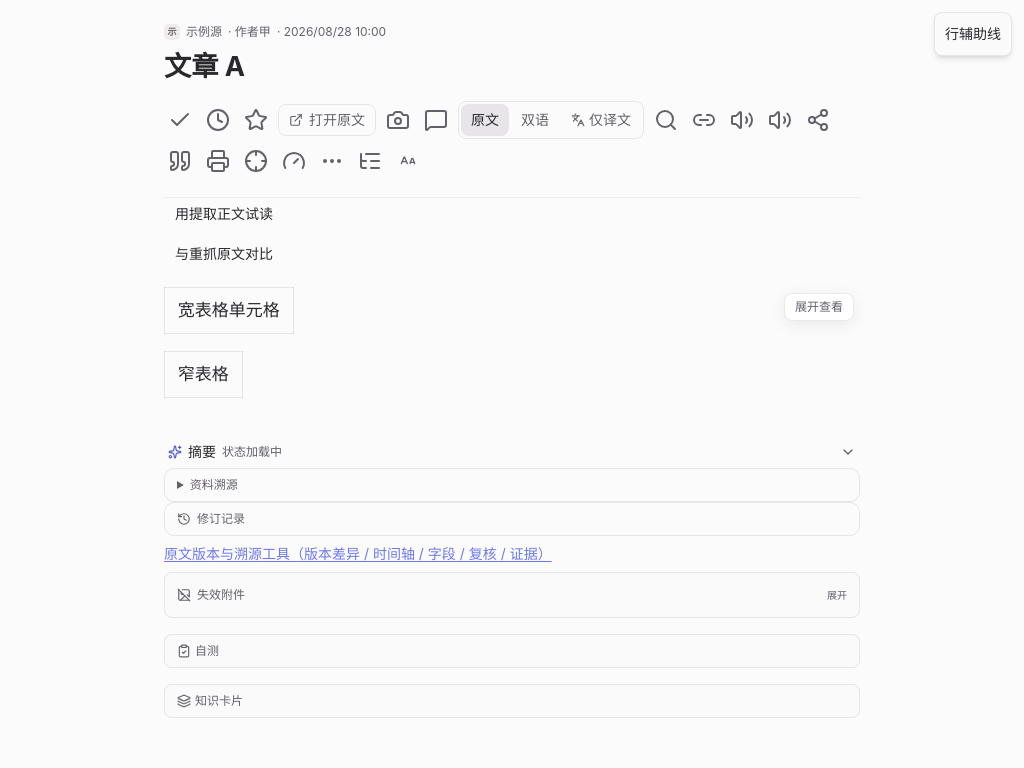
F16 — 表格展开 › 过宽表格（data-table-wide 标记路径）出现展开按钮；面板完整查看；Esc 关闭还原滚动
The width and height of the screenshot is (1024, 768).
(page scrolled)
Expected: the text "宽表格单元格" is shown, x1=164 y1=288 x2=293 y2=334
Click the button with aria-label "展开表格". click: [819, 307]
box: x1=784 y1=293 x2=854 y2=321
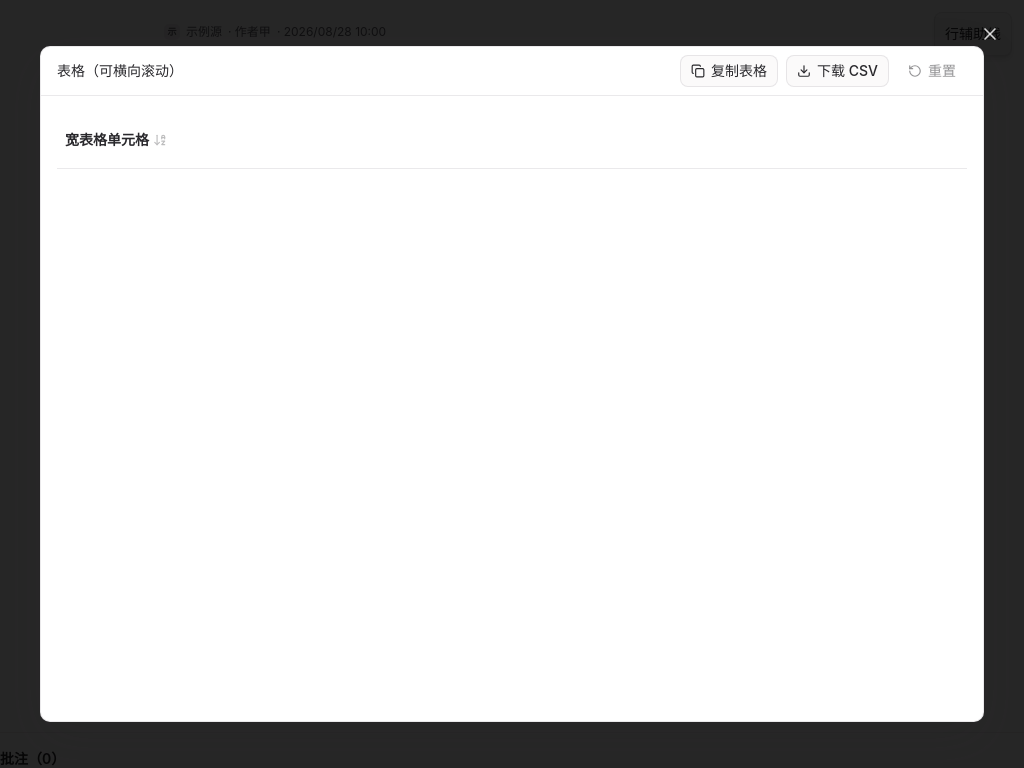
Now the table is shown, box x1=57 y1=112 x2=967 y2=169
Now the table reads "宽表格单元格", box x1=65 y1=118 x2=167 y2=162
Press Escape
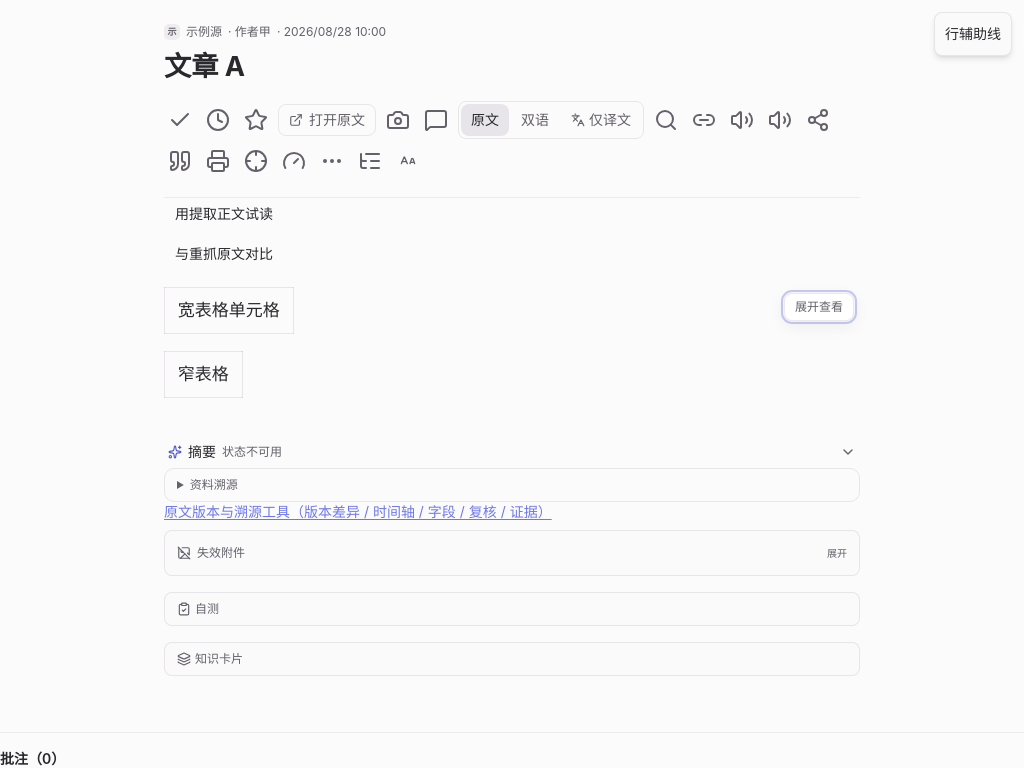
Now the dialog "表格查看" is gone
